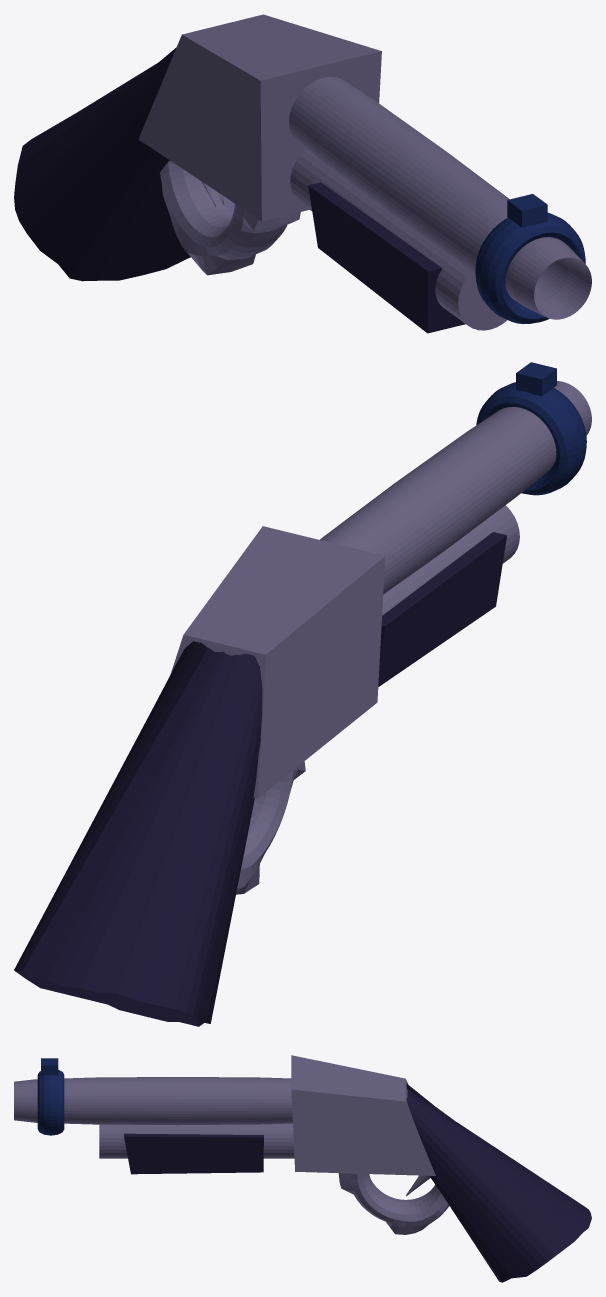
Rendered from Handmade_Shotgun_v1.glb.
The picture shows the model from 3 angles, top to bottom: view 1: azimuth 30°, elevation 25°; view 2: azimuth 150°, elevation 25°; view 3: azimuth 270°, elevation 25°; orthographic projection. The views are drawn at different scales.
Visible parts, largest first — view 1: Cube.002, Torus, Cylinder.002, Cube, Torus.002, Cylinder, Torus.001, Cube.001; view 2: Cylinder.002, Cube.002, Torus, Cube, Torus.001, Torus.002, Cylinder, Cube.001; view 3: Cylinder.002, Cube.002, Torus, Cube, Cylinder, Torus.002, Torus.001, Cube.001.
Part boxes in pixels (x1=…): Cube.002: x1=138, y1=14, x2=381, y2=221; Torus: x1=289, y1=77, x2=591, y2=319; Cylinder.002: x1=14, y1=47, x2=190, y2=281; Cube: x1=308, y1=182, x2=465, y2=333; Torus.002: x1=160, y1=160, x2=300, y2=275; Cylinder: x1=290, y1=149, x2=507, y2=330; Torus.001: x1=475, y1=212, x2=585, y2=323; Cube.001: x1=507, y1=194, x2=547, y2=227; Cylinder.002: x1=14, y1=641, x2=262, y2=1026; Cube.002: x1=171, y1=526, x2=385, y2=798; Torus: x1=320, y1=381, x2=591, y2=594; Cube: x1=378, y1=532, x2=506, y2=686; Torus.001: x1=476, y1=382, x2=586, y2=495; Torus.002: x1=236, y1=761, x2=305, y2=894; Cylinder: x1=382, y1=505, x2=519, y2=615; Cube.001: x1=516, y1=362, x2=556, y2=396; Cylinder.002: x1=406, y1=1084, x2=591, y2=1282; Cube.002: x1=291, y1=1055, x2=435, y2=1175; Torus: x1=14, y1=1077, x2=292, y2=1125; Cube: x1=124, y1=1133, x2=263, y2=1174; Cylinder: x1=99, y1=1123, x2=294, y2=1158; Torus.002: x1=338, y1=1173, x2=449, y2=1234; Torus.001: x1=37, y1=1070, x2=64, y2=1135; Cube.001: x1=41, y1=1058, x2=58, y2=1075.
Bounding box in the file's own units: 1.07 × 2.12 × 5.37.
